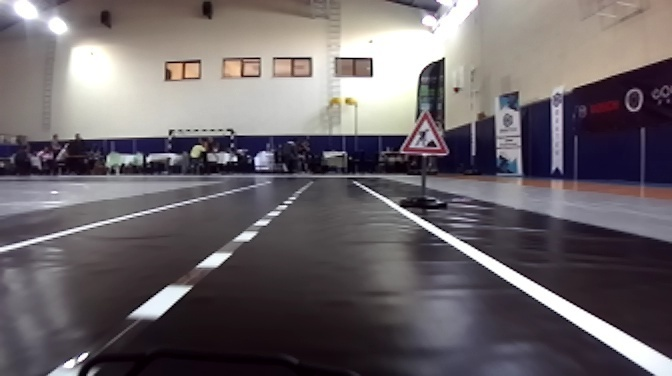yol_yapimi: (394, 107, 448, 156)
